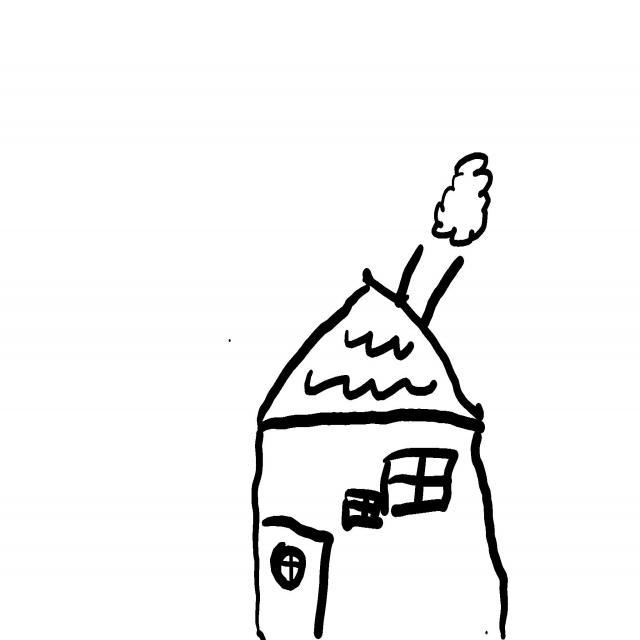chimney: (397, 243, 468, 327)
door: (255, 517, 336, 640)
house: (252, 249, 509, 640)
roof: (253, 266, 491, 435)
wall: (254, 423, 500, 640)
window: (383, 447, 463, 517), (340, 484, 383, 534), (271, 543, 306, 592)
